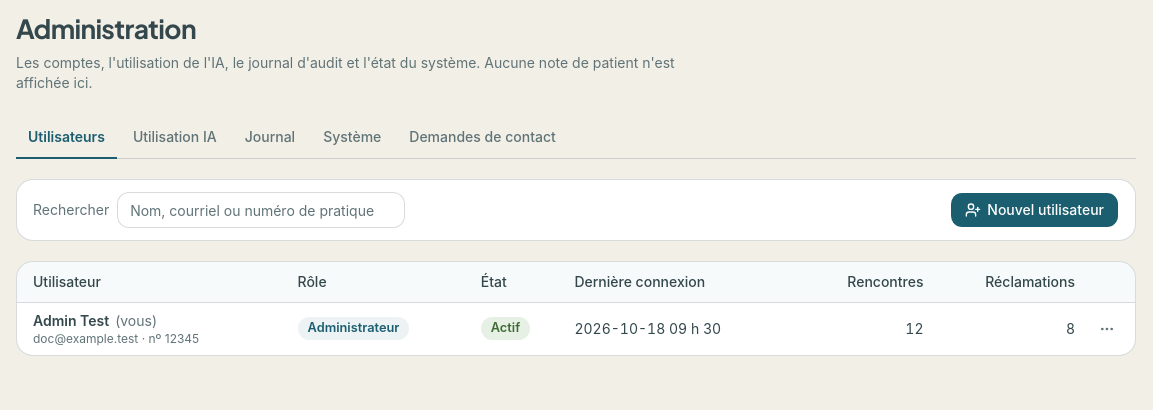
Scenario: users tab › offers no reset, logout or deactivation on the admin's own account
The width and height of the screenshot is (1153, 410).
Expected: the text "(vous)" is shown, [115,312,157,328]
Click the button named "Actions — Admin Test".
click(1107, 328)  # box [1091,312,1123,344]
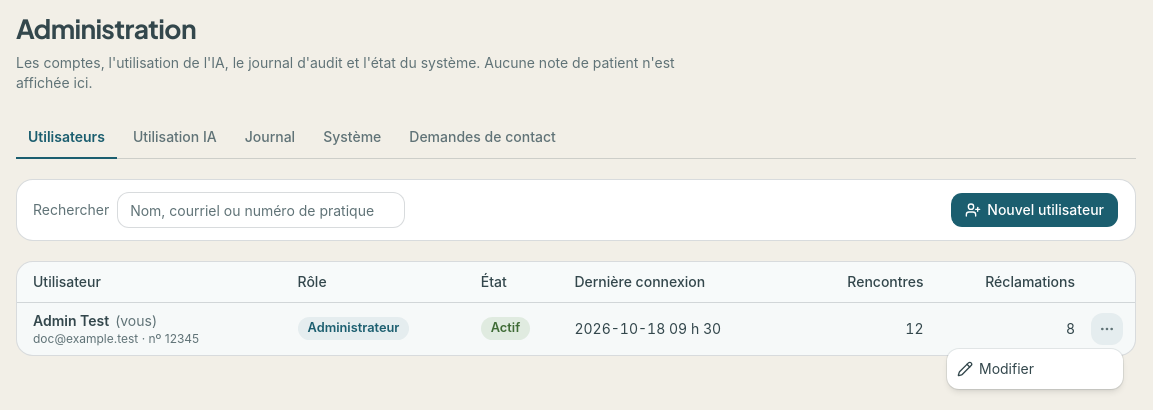
Now the menu item "Modifier" is shown, box [957,360,1034,377]
